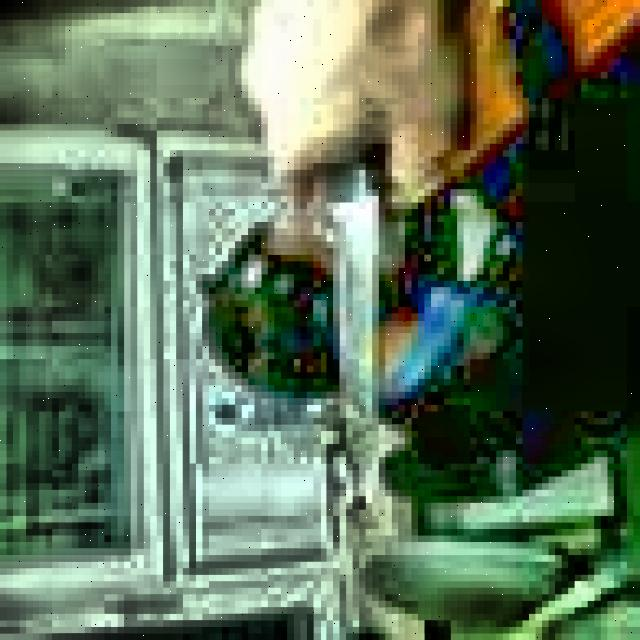knife: (327, 163, 390, 509)
